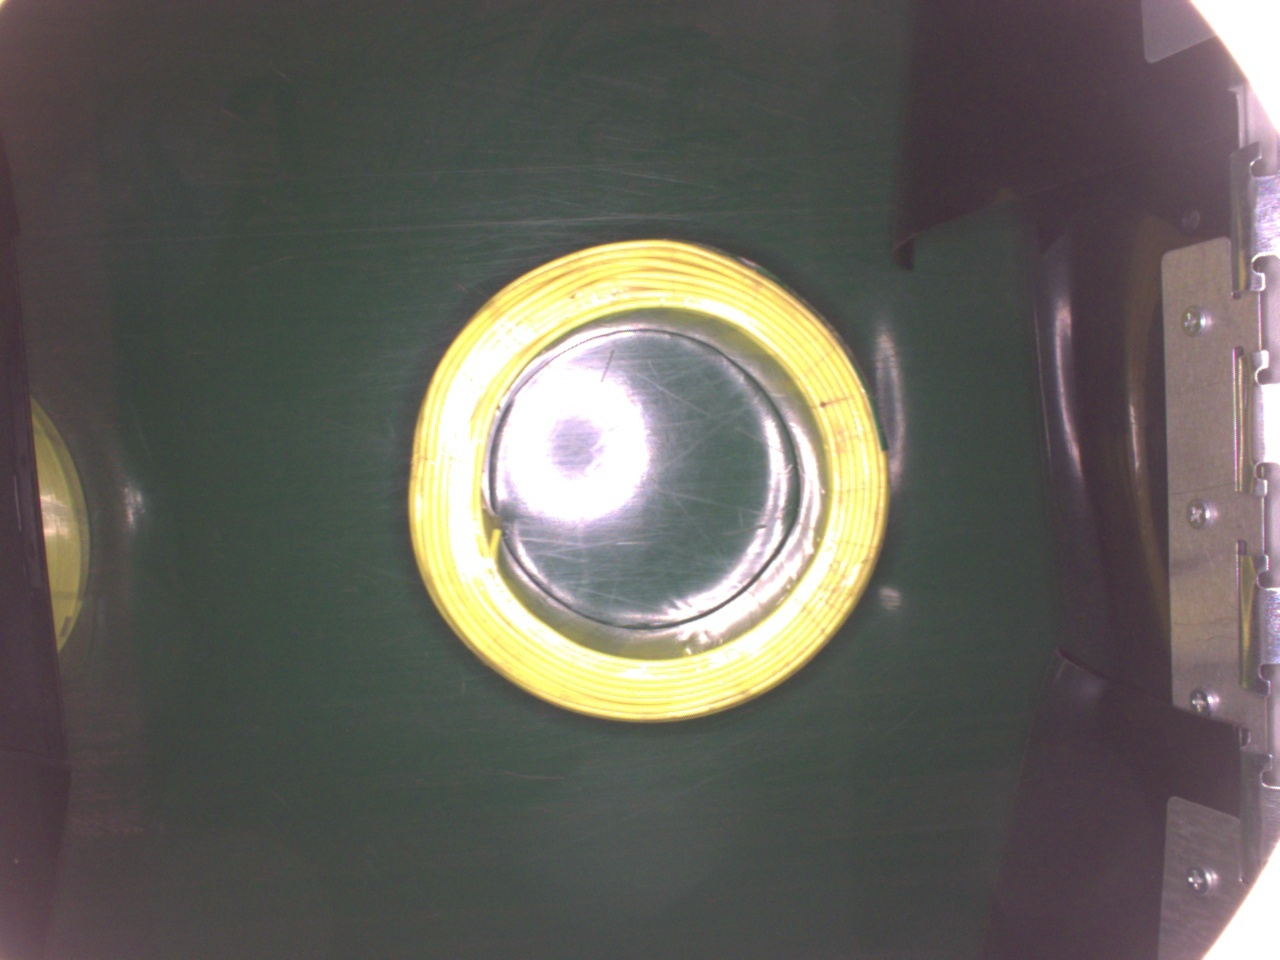yellow: (407, 227, 891, 720)
